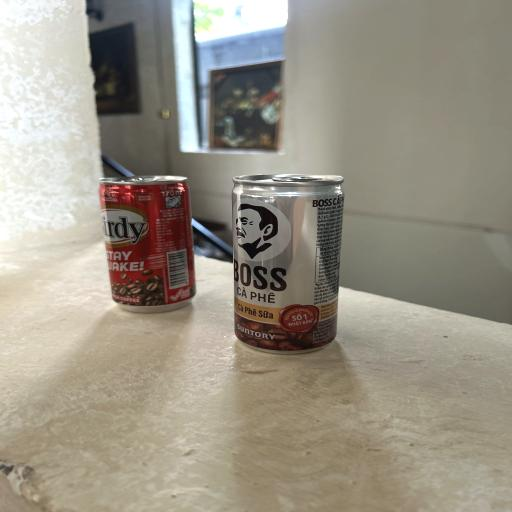birdy: (94, 175, 199, 317)
boss_coffee: (228, 168, 348, 360)
